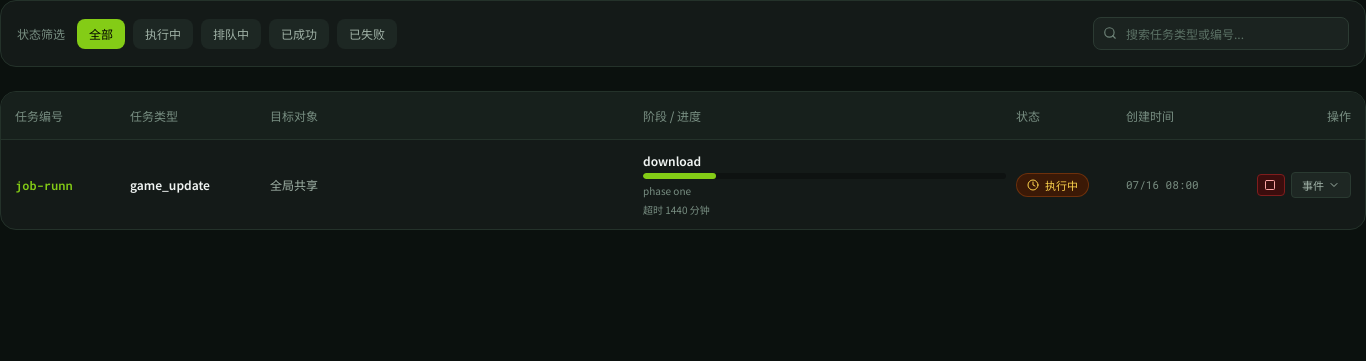
Scenario: JobsPage › refreshes an expanded running job when its summary timestamp changes
Click the button with aria-label "查看 game_update 任务日志，任务 ID job-running". click: point(1321, 184)
box: [1291,172,1351,198]
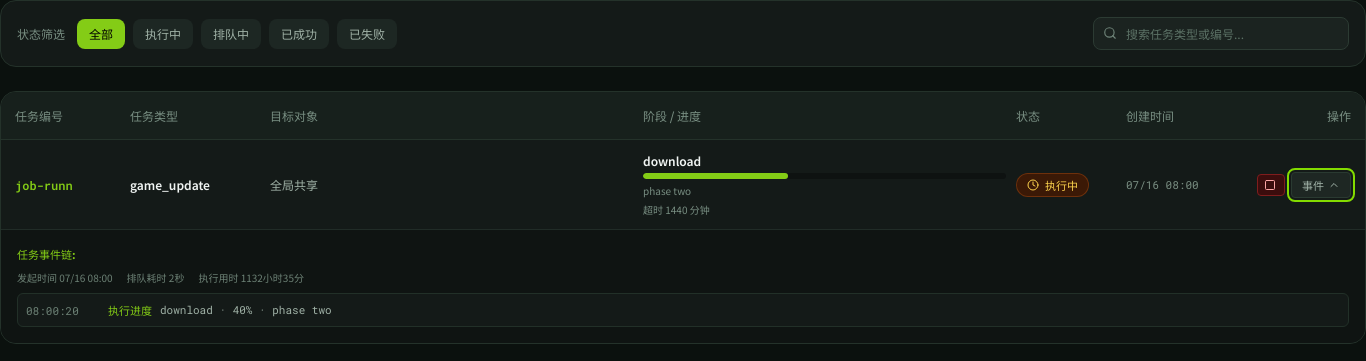
Expected: the text "phase two" is shown, [643,183,691,198]
